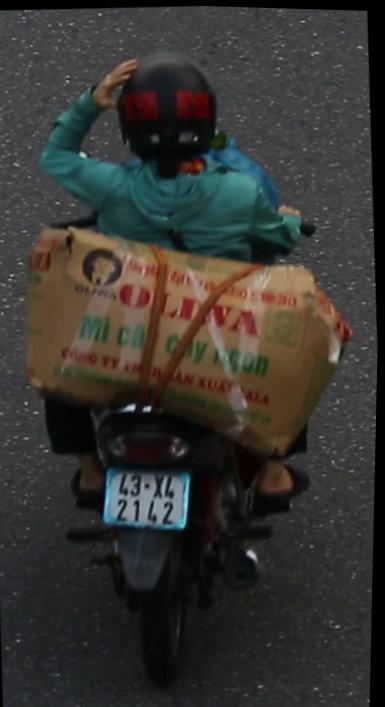LP: (99, 451, 203, 536)
helmet: (103, 33, 238, 182)
